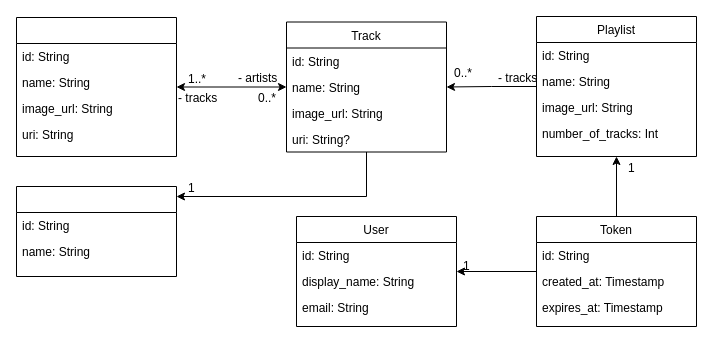
Some shapes in this 713 by 343 pixel diagram are drawn without their labels. The shapes that lost their labels are listed below. From the top down, each one's box as (x1, y1, x2, y2) in pixels, then its label:
(16, 16, 176, 156): Artist
(16, 186, 176, 276): Album
